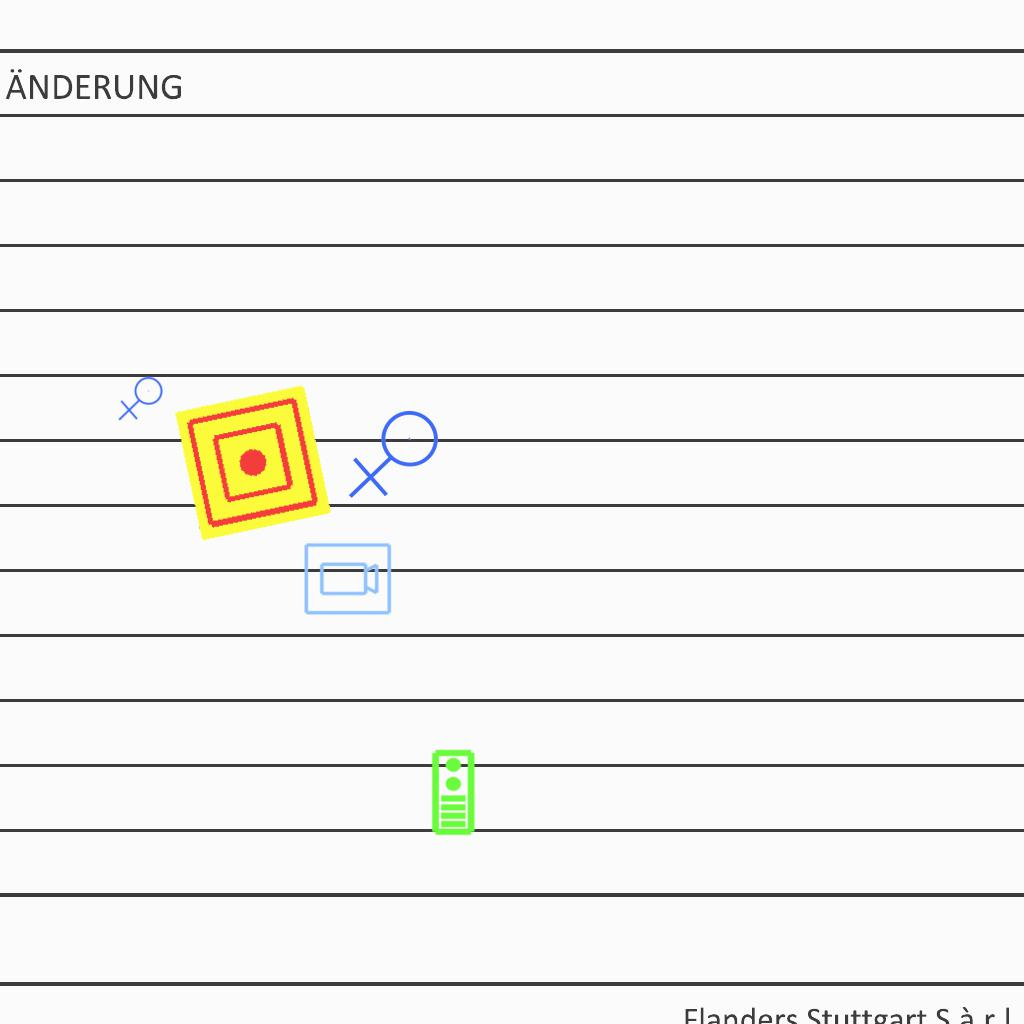Elektroanschluss_allgemein_230V_Geraeteanschlussdose_230V: (348, 409, 447, 503), (118, 376, 167, 423)
Gegensprechanlage_mit_Video: (429, 748, 476, 836)
KFO_Kamera_mit_Festobjektiv: (302, 541, 393, 618)
NAM-Nichtautomatischer_Melder: (174, 384, 332, 542)
